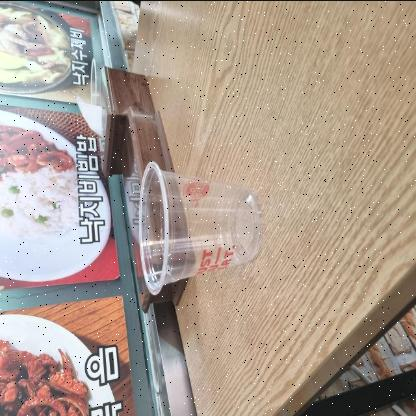Others: (135, 157, 265, 297)
